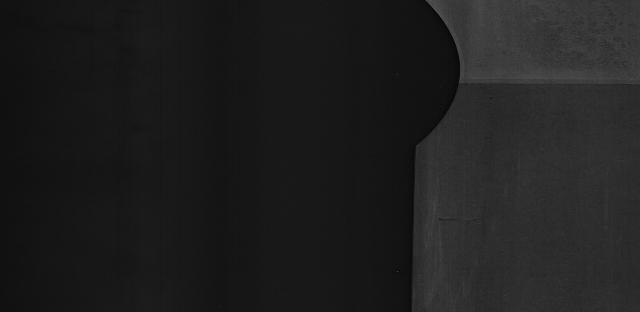welding_line: (443, 70, 640, 98)
